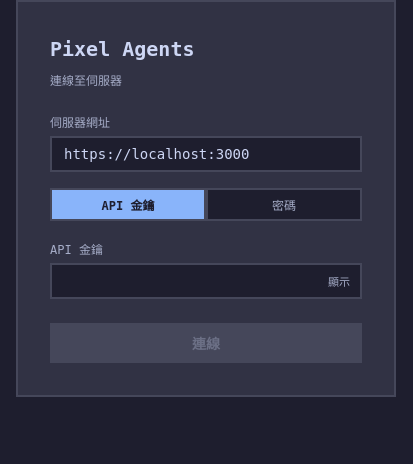
LoginView › 連線失敗時顯示錯誤訊息
This screenshot has width=413, height=464.
In the password field labelled "API 金鑰": (206,281) [50,263,362,299], type "key"
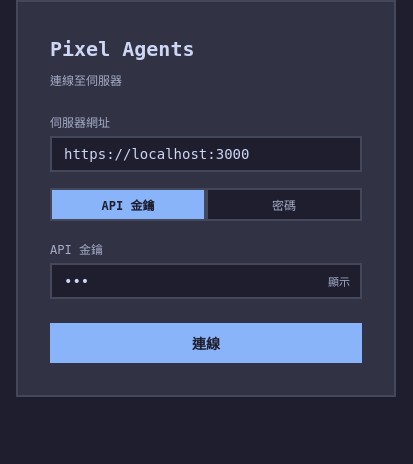
Click the button "連線": (206,343) [50,323,362,363]
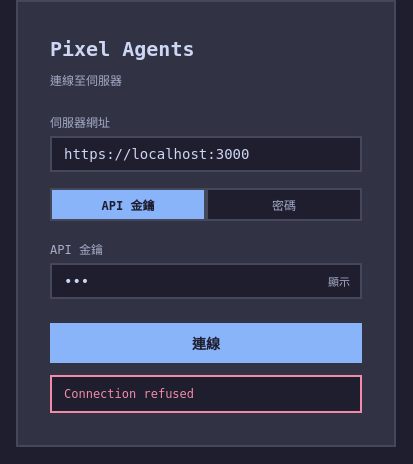
Expected: the message reads "Connection refused", [64,387,194,401]
